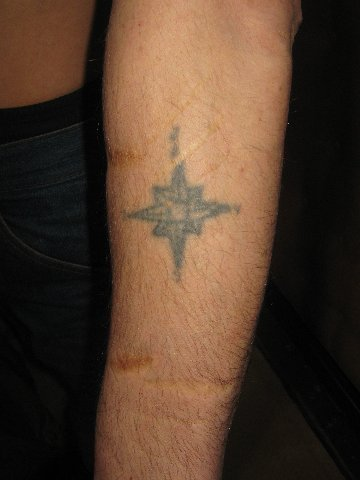tatu4_zvezda: (129, 164, 232, 277)
